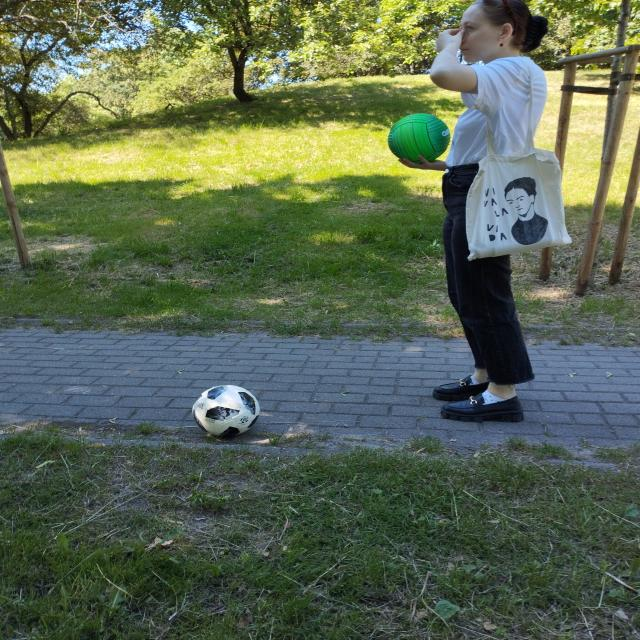nozna: (192, 385, 260, 437)
zielona: (388, 113, 450, 163)
